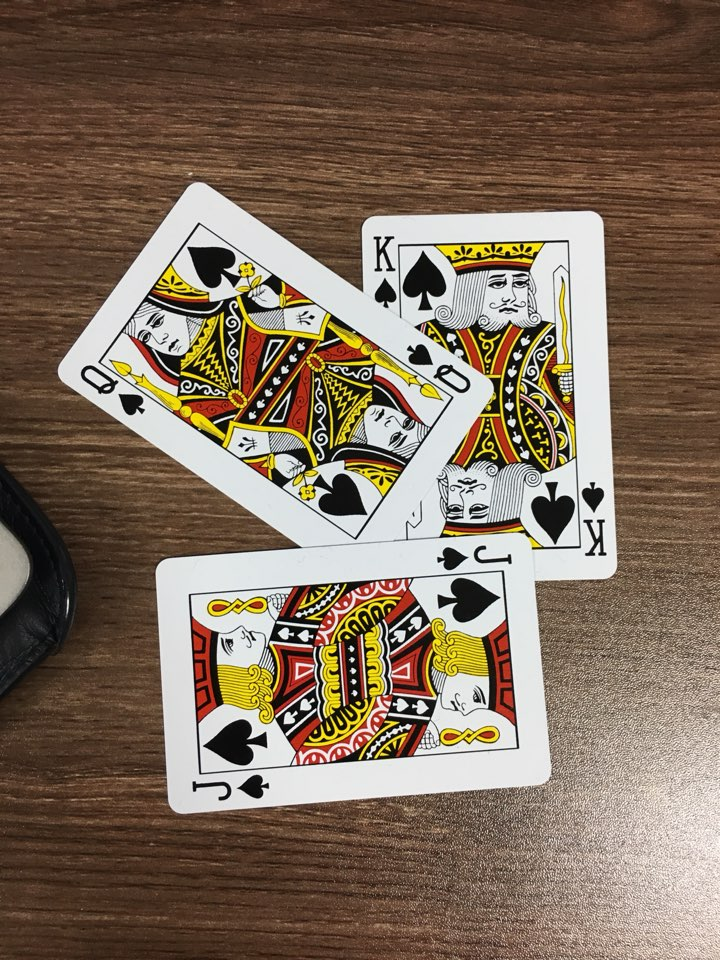jack: (122, 514, 575, 824)
king: (335, 190, 649, 608)
queen: (44, 165, 500, 564)
